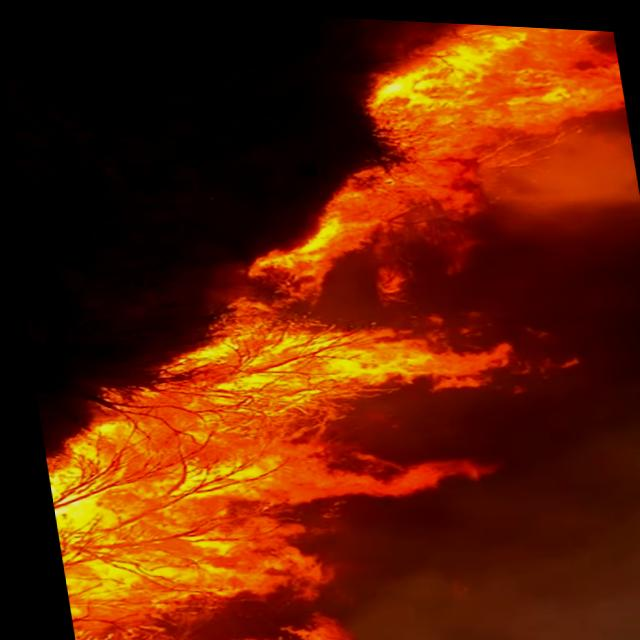fire: (18, 302, 518, 562), (41, 470, 397, 640), (354, 14, 626, 126)
smoke: (535, 191, 640, 467)
